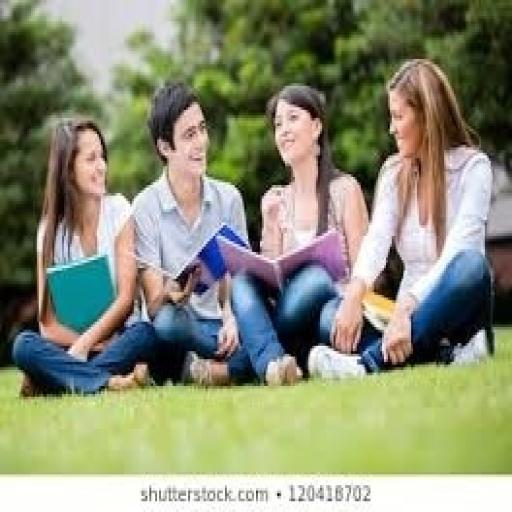sitting: (10, 56, 496, 394), (306, 56, 494, 381), (225, 80, 370, 386), (10, 115, 155, 397), (128, 78, 252, 386)
